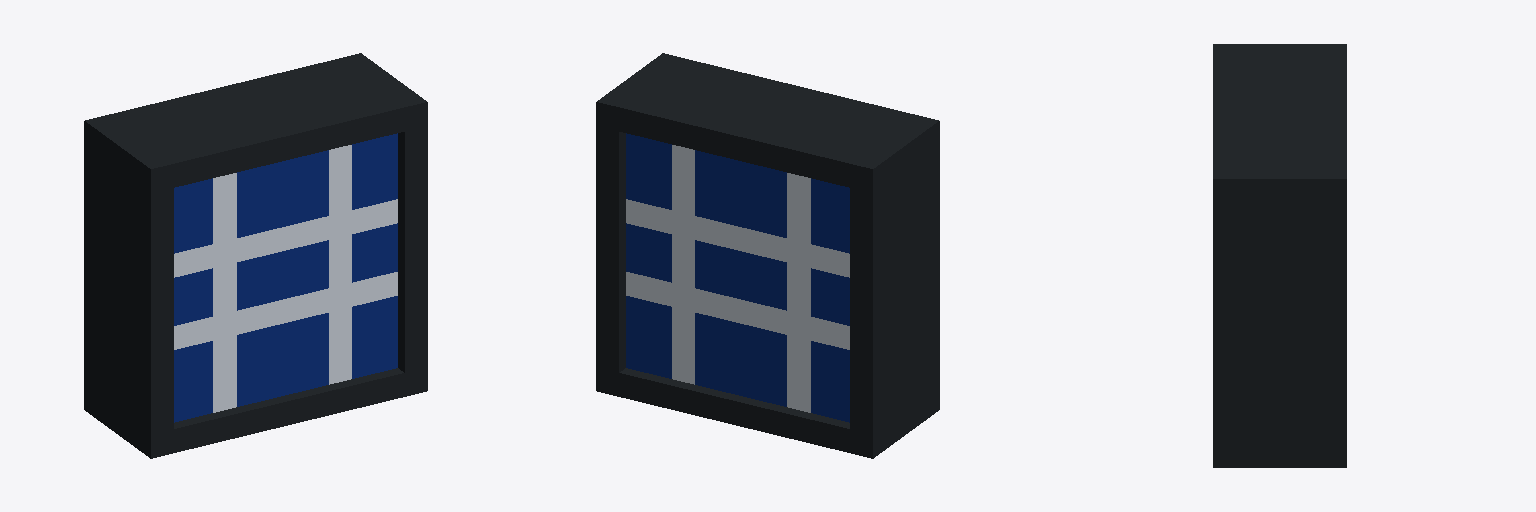
File: SolarIcon.obj
The picture shows the model from 3 angles: view 1: azimuth 30°, elevation 25°; view 2: azimuth 150°, elevation 25°; view 3: azimuth 270°, elevation 25°; orthographic projection.
Size of the model in its own units: 12 by 12 by 5.